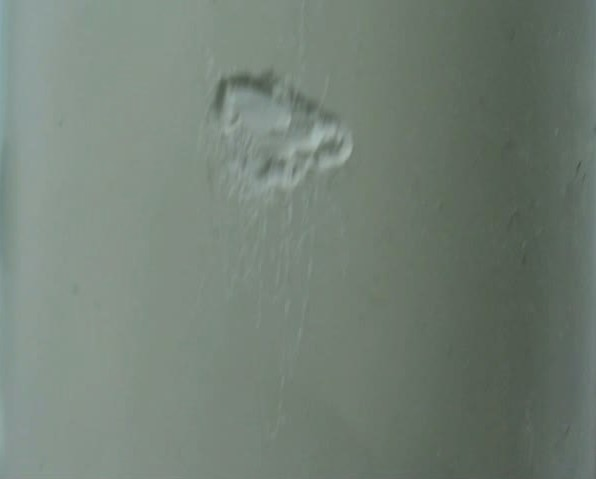sunshang: (202, 68, 359, 207)
